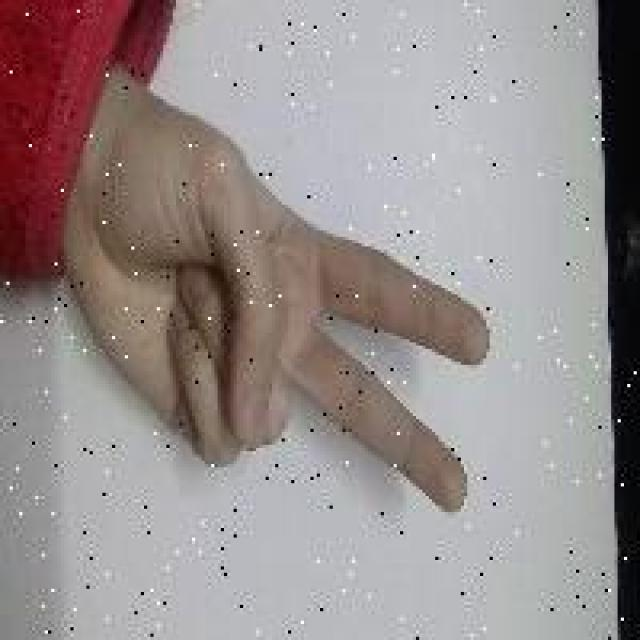V: (64, 134, 522, 598)
